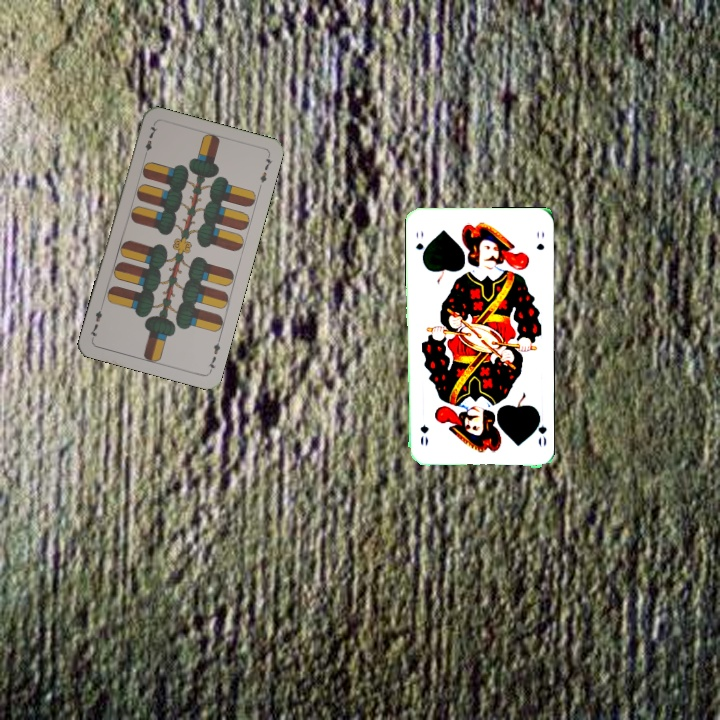E7: (140, 121, 160, 161), (204, 334, 223, 374)
GO: (530, 411, 549, 449), (412, 226, 428, 263)
